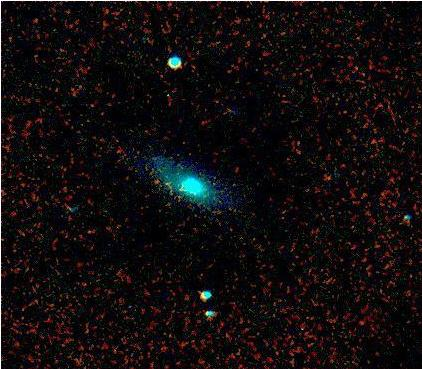star: (313, 164, 343, 194)
